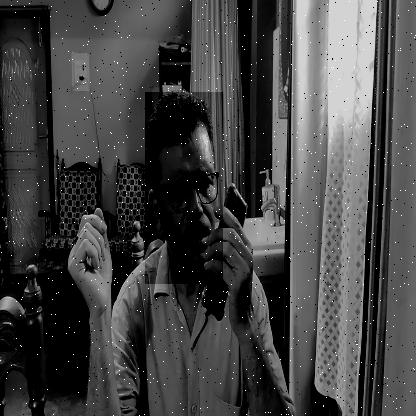Distracted: (145, 92, 223, 284)
